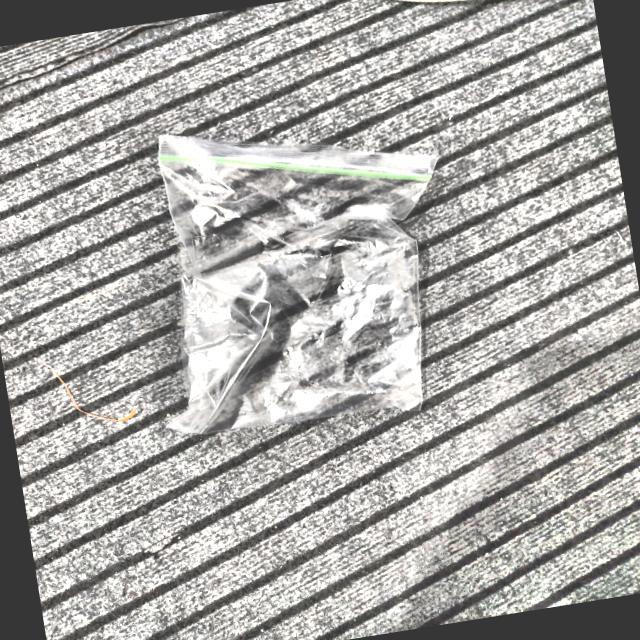plastic bag: (159, 135, 437, 434)
